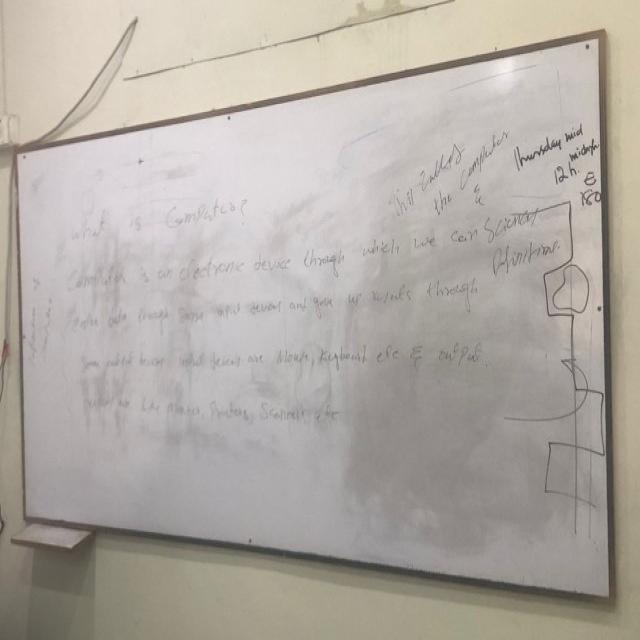White-board: (16, 39, 610, 601)
